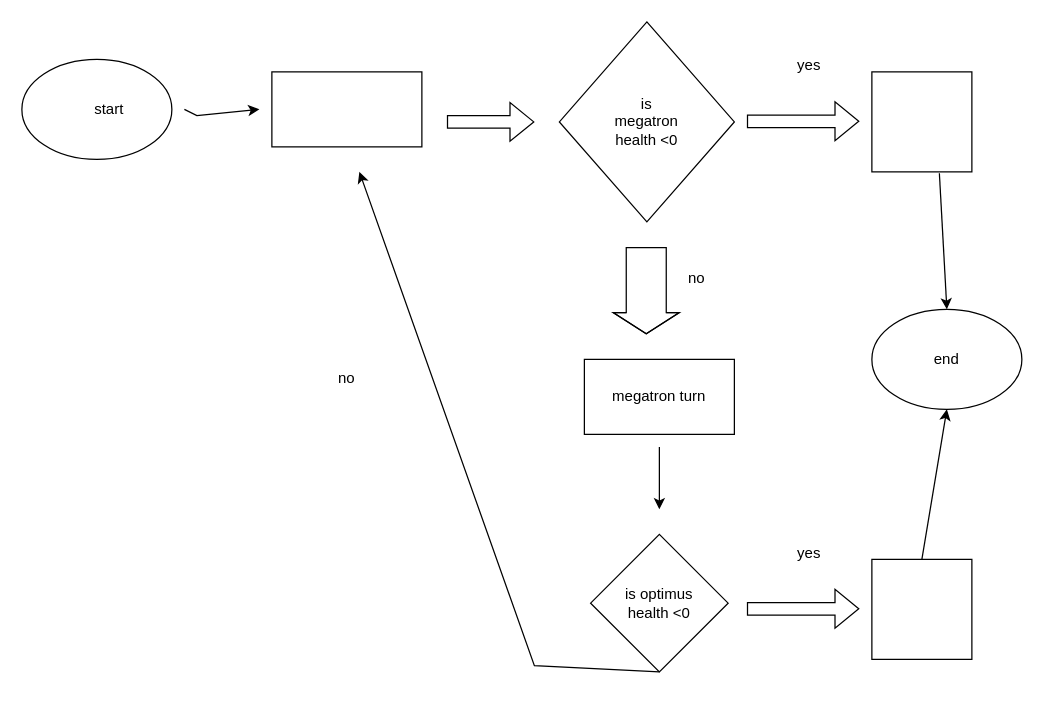
This 1044x704 diagram has some shape labels left out. The shapes that lost their labels are listed below. From the top down, each one's centre as x and y in pixels, then its label:
pixel 346 109: optimus turn
pixel 921 121: optimus won
pixel 921 608: megatron won
